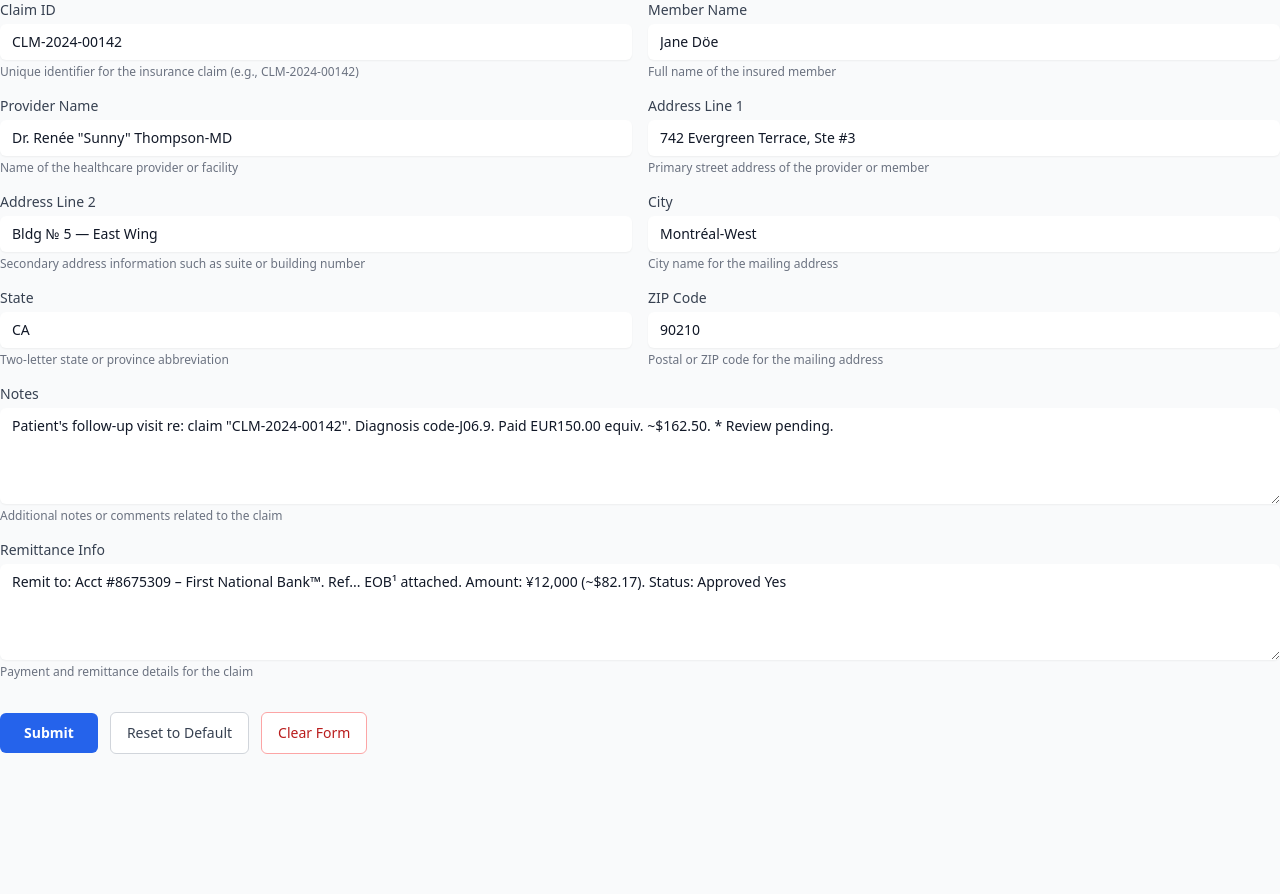
DemoForm › submission with validation (Screen B) › shows field-specific errors for invalid characters
Click the button "Submit". click: (49, 733)
box: 0,713 -> 98,753
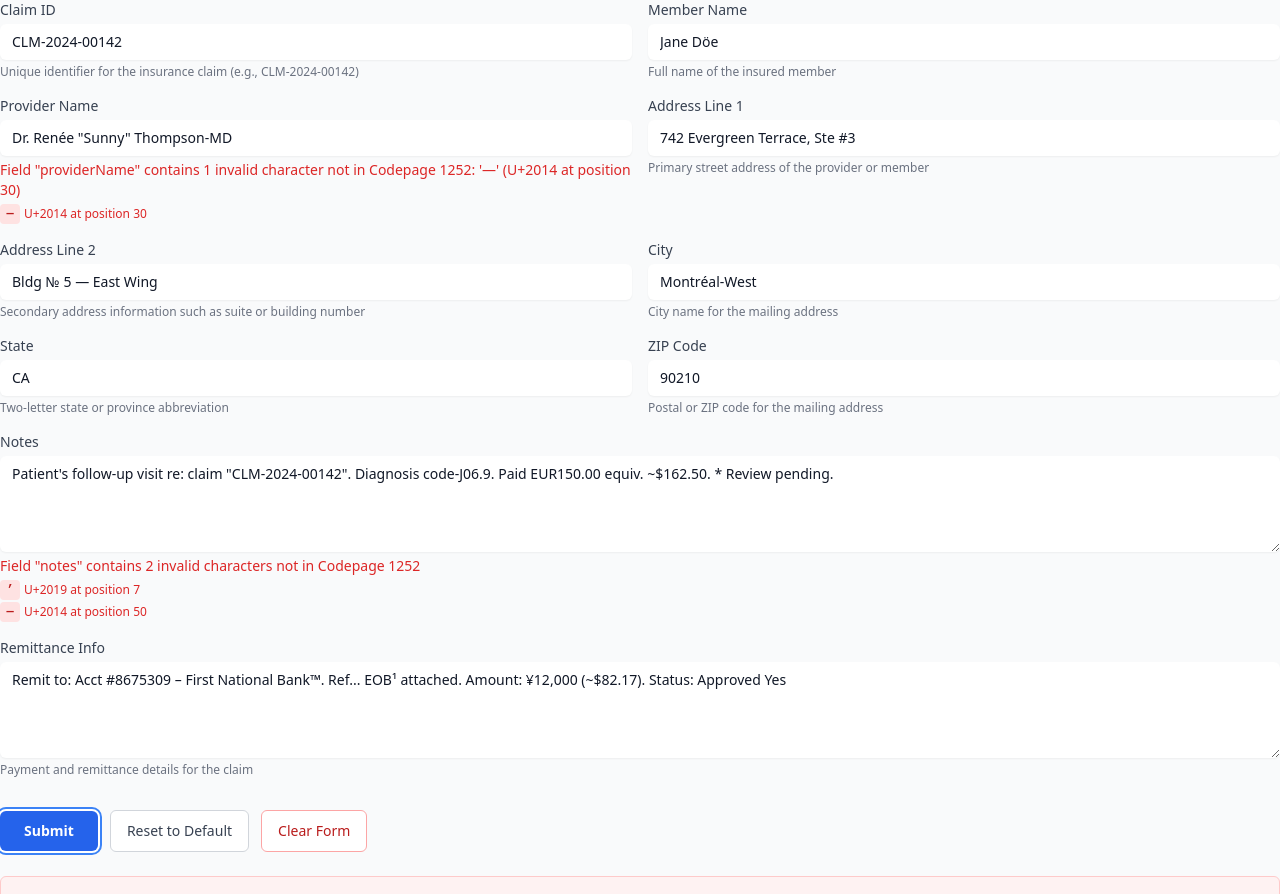
Result: the 1st message is shown at 0,160 -> 632,224
Result: the 2nd message is shown at 0,556 -> 420,622
